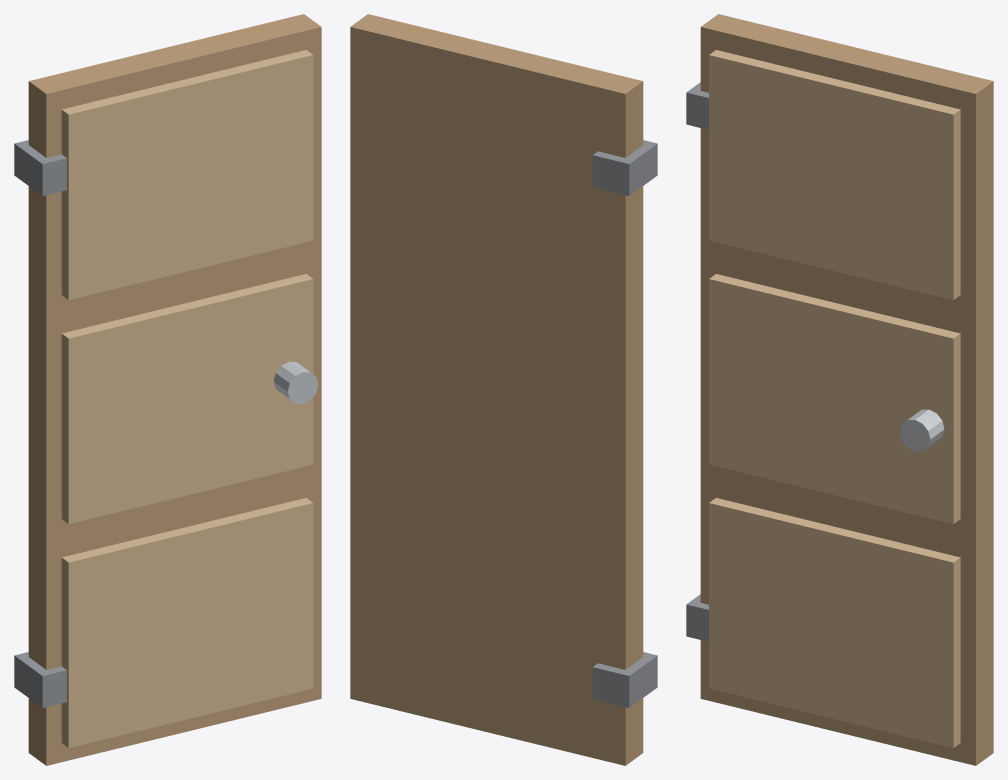
Rendered from wooden_door.glb.
3 renders of one model, left to right at view 1: azimuth 30°, elevation 25°; view 2: azimuth 150°, elevation 25°; view 3: azimuth 330°, elevation 25°, orthographic.
Parts seen in each view (by area): view 1: wooden_door; view 2: wooden_door; view 3: wooden_door.
Part boxes in pixels (x1,y1,x2,y2): wooden_door: (14, 14, 321, 765); wooden_door: (350, 14, 657, 765); wooden_door: (686, 14, 993, 765).
Size of the model in its own units: 0.93 by 2.1 by 0.25.
